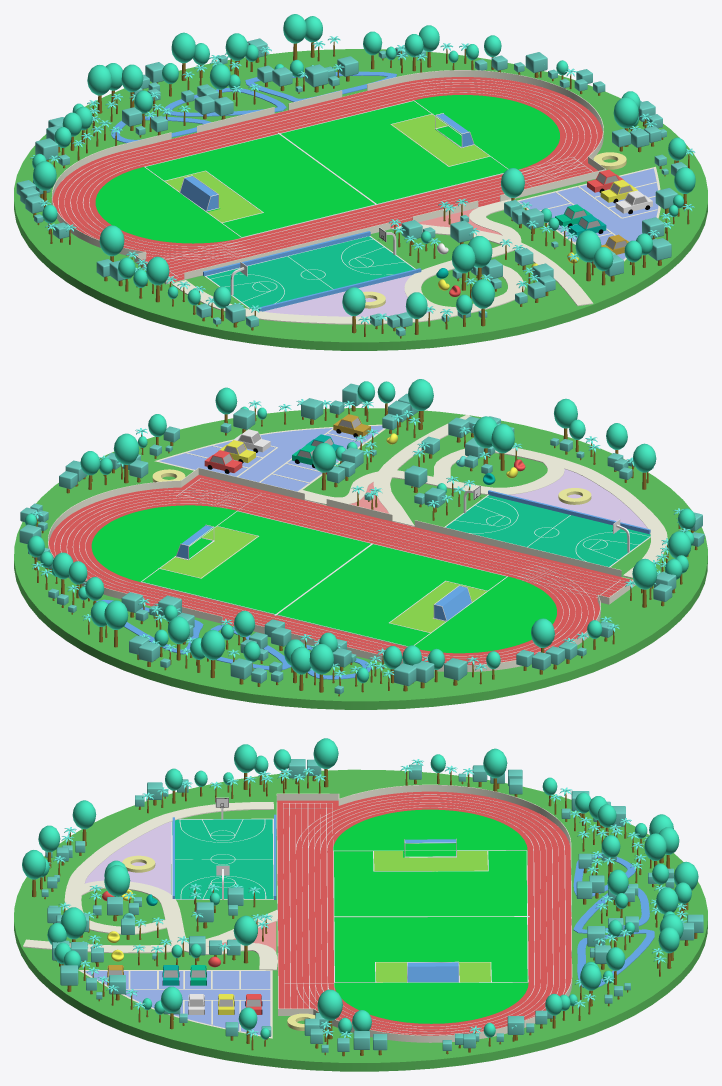
3 renders of one model, top to bottom at view 1: azimuth 30°, elevation 25°; view 2: azimuth 150°, elevation 25°; view 3: azimuth 270°, elevation 25°, orthographic.
Parts seen in each view (by area): view 1: Cylinder103, 300mpaodao#2_001, Group84770, 300mpaodao#2_002, Rectangle117, 图形002, Line112, Line107, Group_5390, Line113, Circle053, Arc006 (+22 smaller); view 2: Cylinder103, 300mpaodao#2_001, Group84770, Rectangle117, Line112, 300mpaodao#2_002, 图形002, Line107, Line113, Group_5390, Arc006, Circle053 (+20 smaller); view 3: Cylinder103, 300mpaodao#2_001, Group84770, Rectangle117, Line112, 300mpaodao#2_002, Line107, 图形002, Group_5390, Line113, Circle053, Arc006 (+15 smaller).
Part boxes in pixels (bbox=[...]): Cylinder103: bbox=[14, 49, 707, 350]; 300mpaodao#2_001: bbox=[95, 95, 559, 243]; Group84770: bbox=[58, 79, 596, 278]; 300mpaodao#2_002: bbox=[58, 78, 597, 284]; Rectangle117: bbox=[207, 236, 414, 310]; 图形002: bbox=[51, 70, 606, 284]; Line112: bbox=[171, 199, 593, 324]; Line107: bbox=[519, 168, 658, 259]; Group_5390: bbox=[52, 77, 602, 282]; Line113: bbox=[264, 275, 430, 316]; Circle053: bbox=[111, 71, 396, 143]; Arc006: bbox=[144, 100, 508, 238]; Cylinder103: bbox=[14, 408, 707, 709]; 300mpaodao#2_001: bbox=[91, 505, 556, 653]; Group84770: bbox=[54, 478, 627, 664]; Rectangle117: bbox=[445, 495, 650, 566]; Line112: bbox=[299, 414, 667, 578]; 300mpaodao#2_002: bbox=[54, 478, 632, 664]; 图形002: bbox=[48, 467, 635, 671]; Line107: bbox=[159, 425, 383, 491]; Line113: bbox=[509, 469, 647, 528]; Group_5390: bbox=[48, 475, 632, 645]; Arc006: bbox=[140, 510, 507, 646]; Circle053: bbox=[96, 599, 370, 679]; Cylinder103: bbox=[14, 769, 707, 1071]; 300mpaodao#2_001: bbox=[333, 809, 528, 1023]; Group84770: bbox=[283, 794, 565, 1035]; Rectangle117: bbox=[172, 819, 273, 899]; Line112: bbox=[23, 802, 277, 970]; 300mpaodao#2_002: bbox=[277, 792, 571, 1034]; Line107: bbox=[83, 971, 270, 1034]; 图形002: bbox=[276, 784, 572, 1042]; Group_5390: bbox=[277, 791, 571, 1008]; Line113: bbox=[85, 821, 171, 894]; Circle053: bbox=[573, 854, 654, 987]; Arc006: bbox=[333, 850, 529, 982].
Bounding box in the file's own units: 382 × 35.05 × 382.
